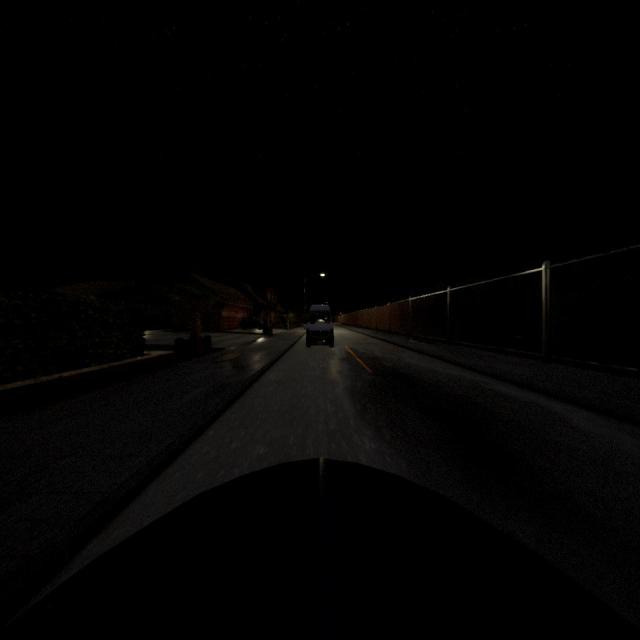Vehicle: (0, 456, 640, 640), (306, 304, 334, 346)
